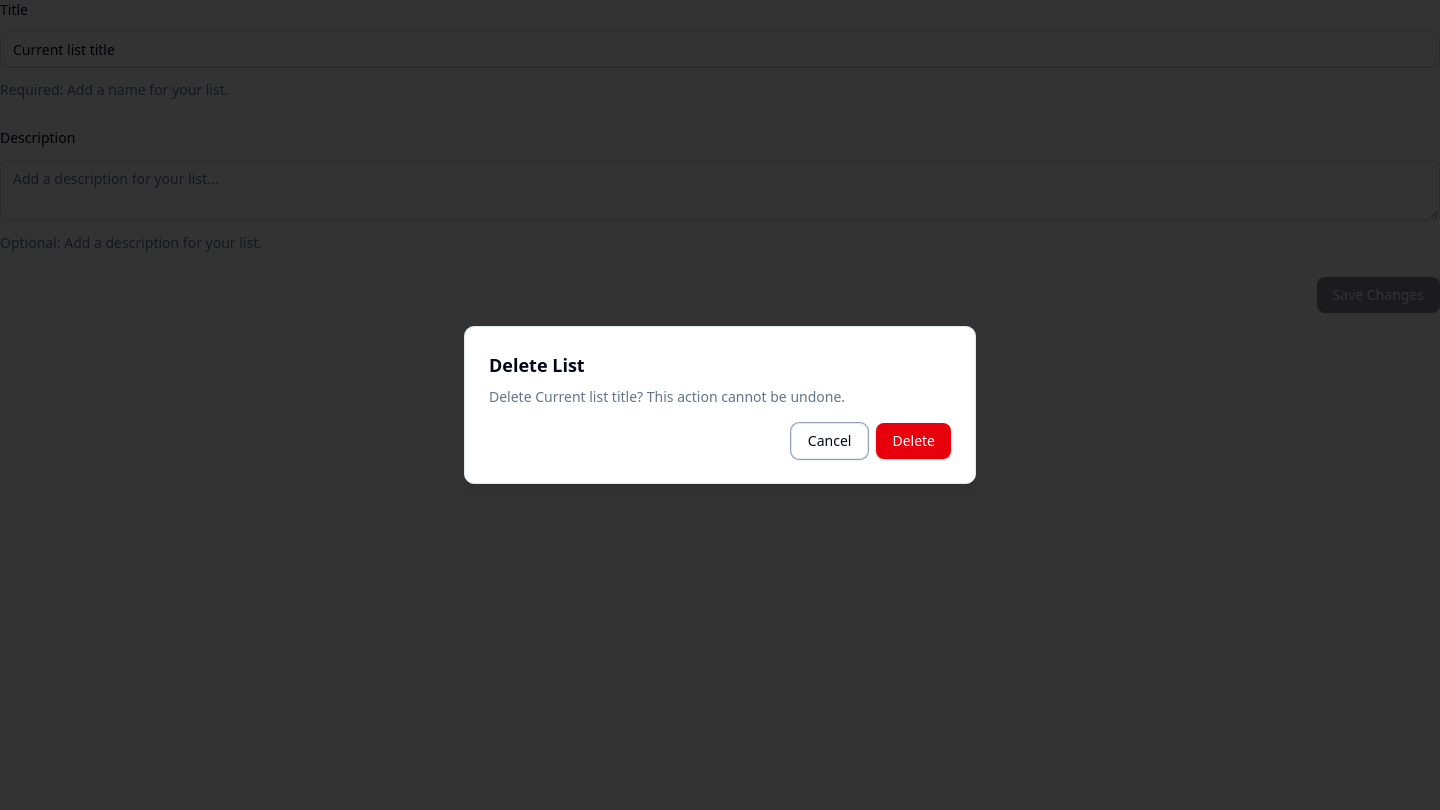
Scenario: ListForm boundary save semantics › opens deletion review from a deep link without deleting on load
This screenshot has width=1440, height=810.
Expected: the dialog is shown, [464,326,976,484]
Expected: the text "Delete Current list title? This action cannot be undone." is shown, [489,387,845,406]
Click the button "Cancel". click: [830, 441]
box: [791,423,868,459]
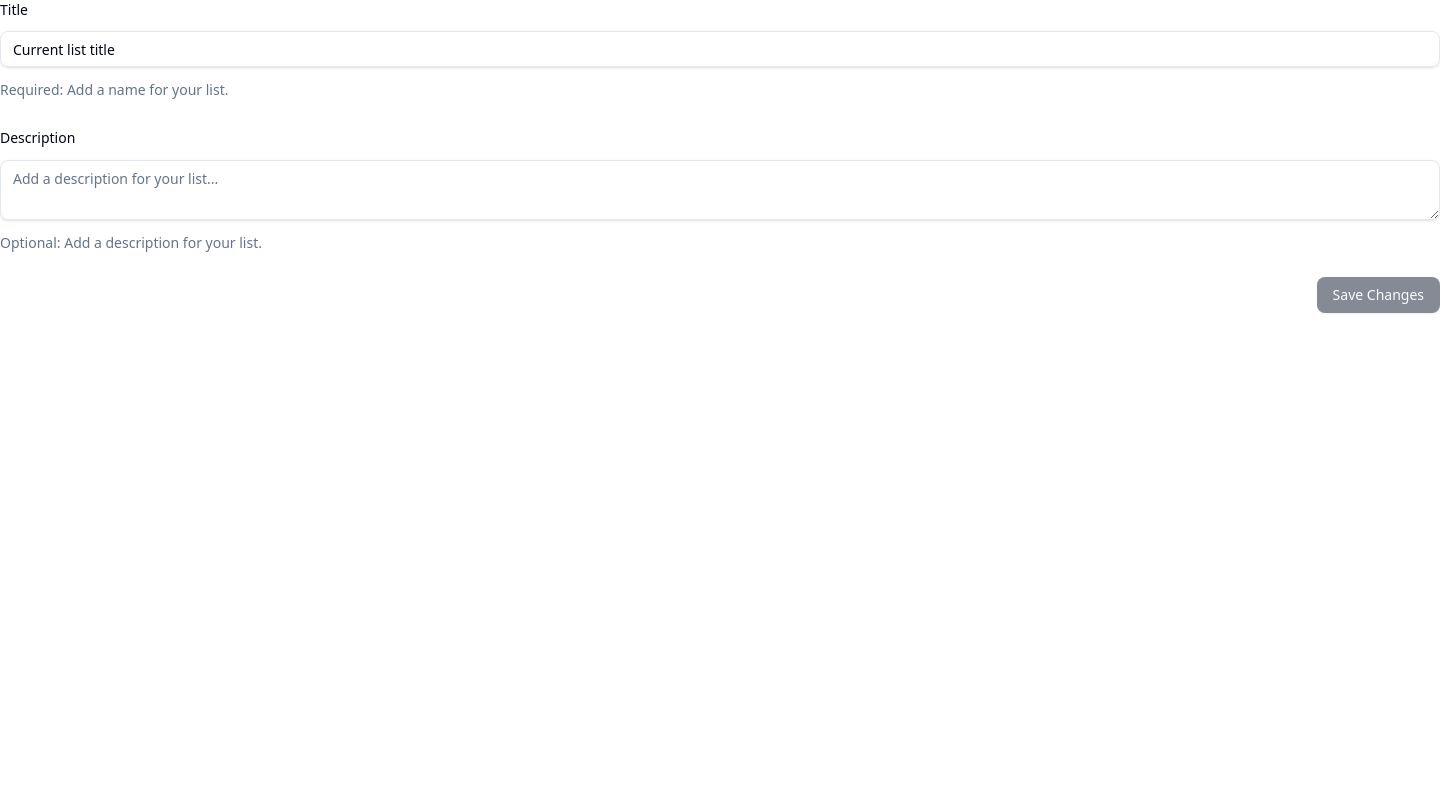
Expected: the dialog is gone
